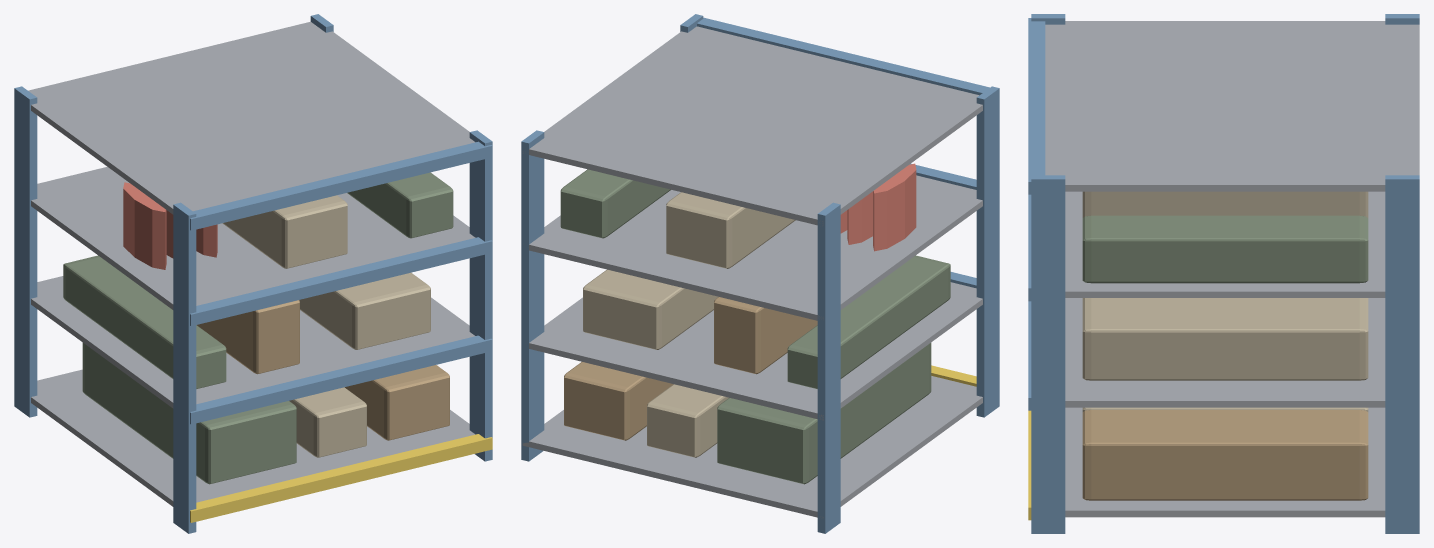
File: prop_shelf.fbx
3 renders of one model, left to right at view 1: azimuth 30°, elevation 25°; view 2: azimuth 150°, elevation 25°; view 3: azimuth 270°, elevation 25°, orthographic. The views are drawn at different scales.
Parts seen in each view (by area): view 1: prop_shelf; view 2: prop_shelf; view 3: prop_shelf.
Part boxes in pixels (x1,y1,x2,y2): prop_shelf: (14,14,492,533); prop_shelf: (521,14,999,533); prop_shelf: (1028,14,1419,533).
Size of the model in its own units: 1 by 1 by 1.
